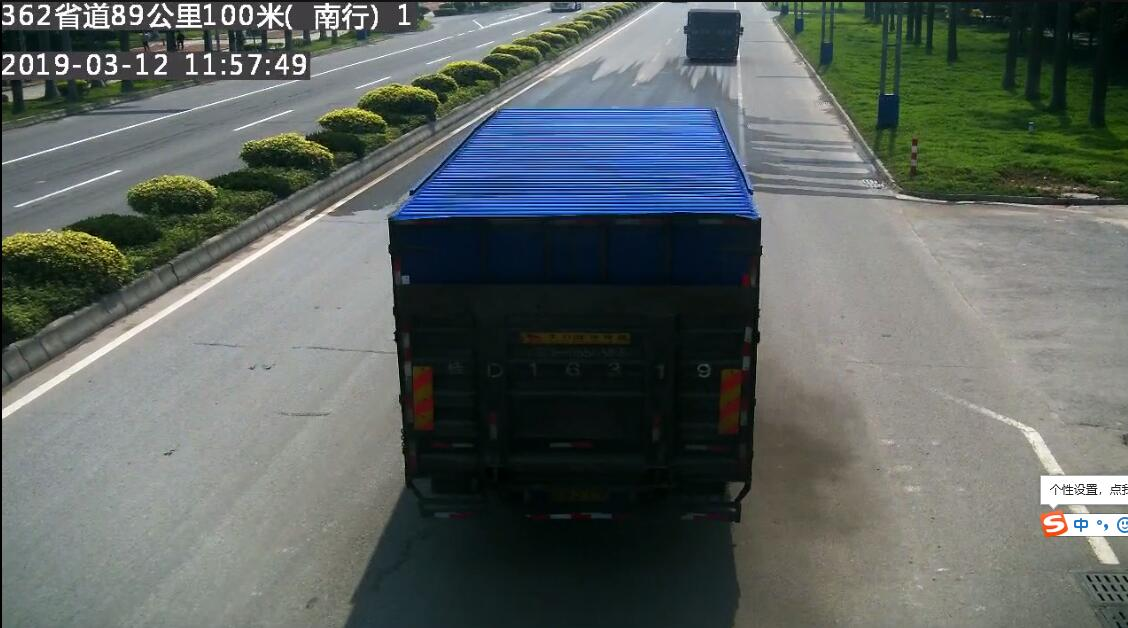smoke: (746, 412, 847, 535)
